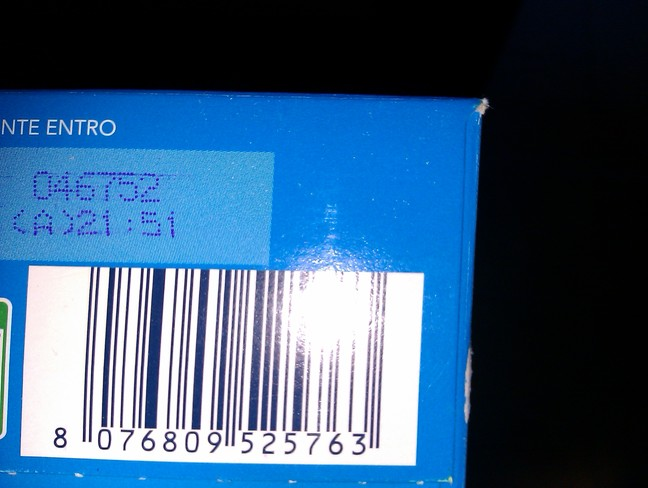detection: (21, 266, 422, 463)
